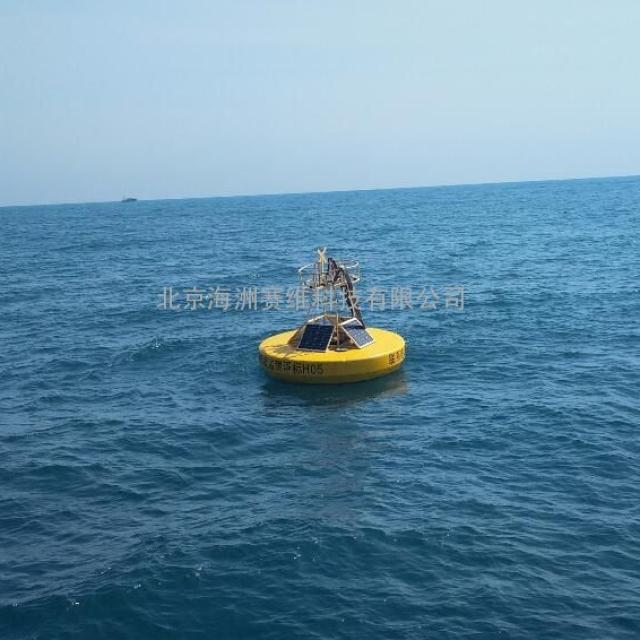buoy: (257, 237, 411, 383)
